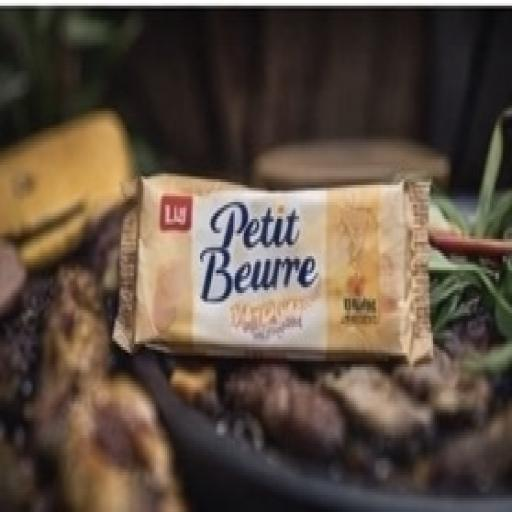petit-beurre: (78, 92, 471, 426)
